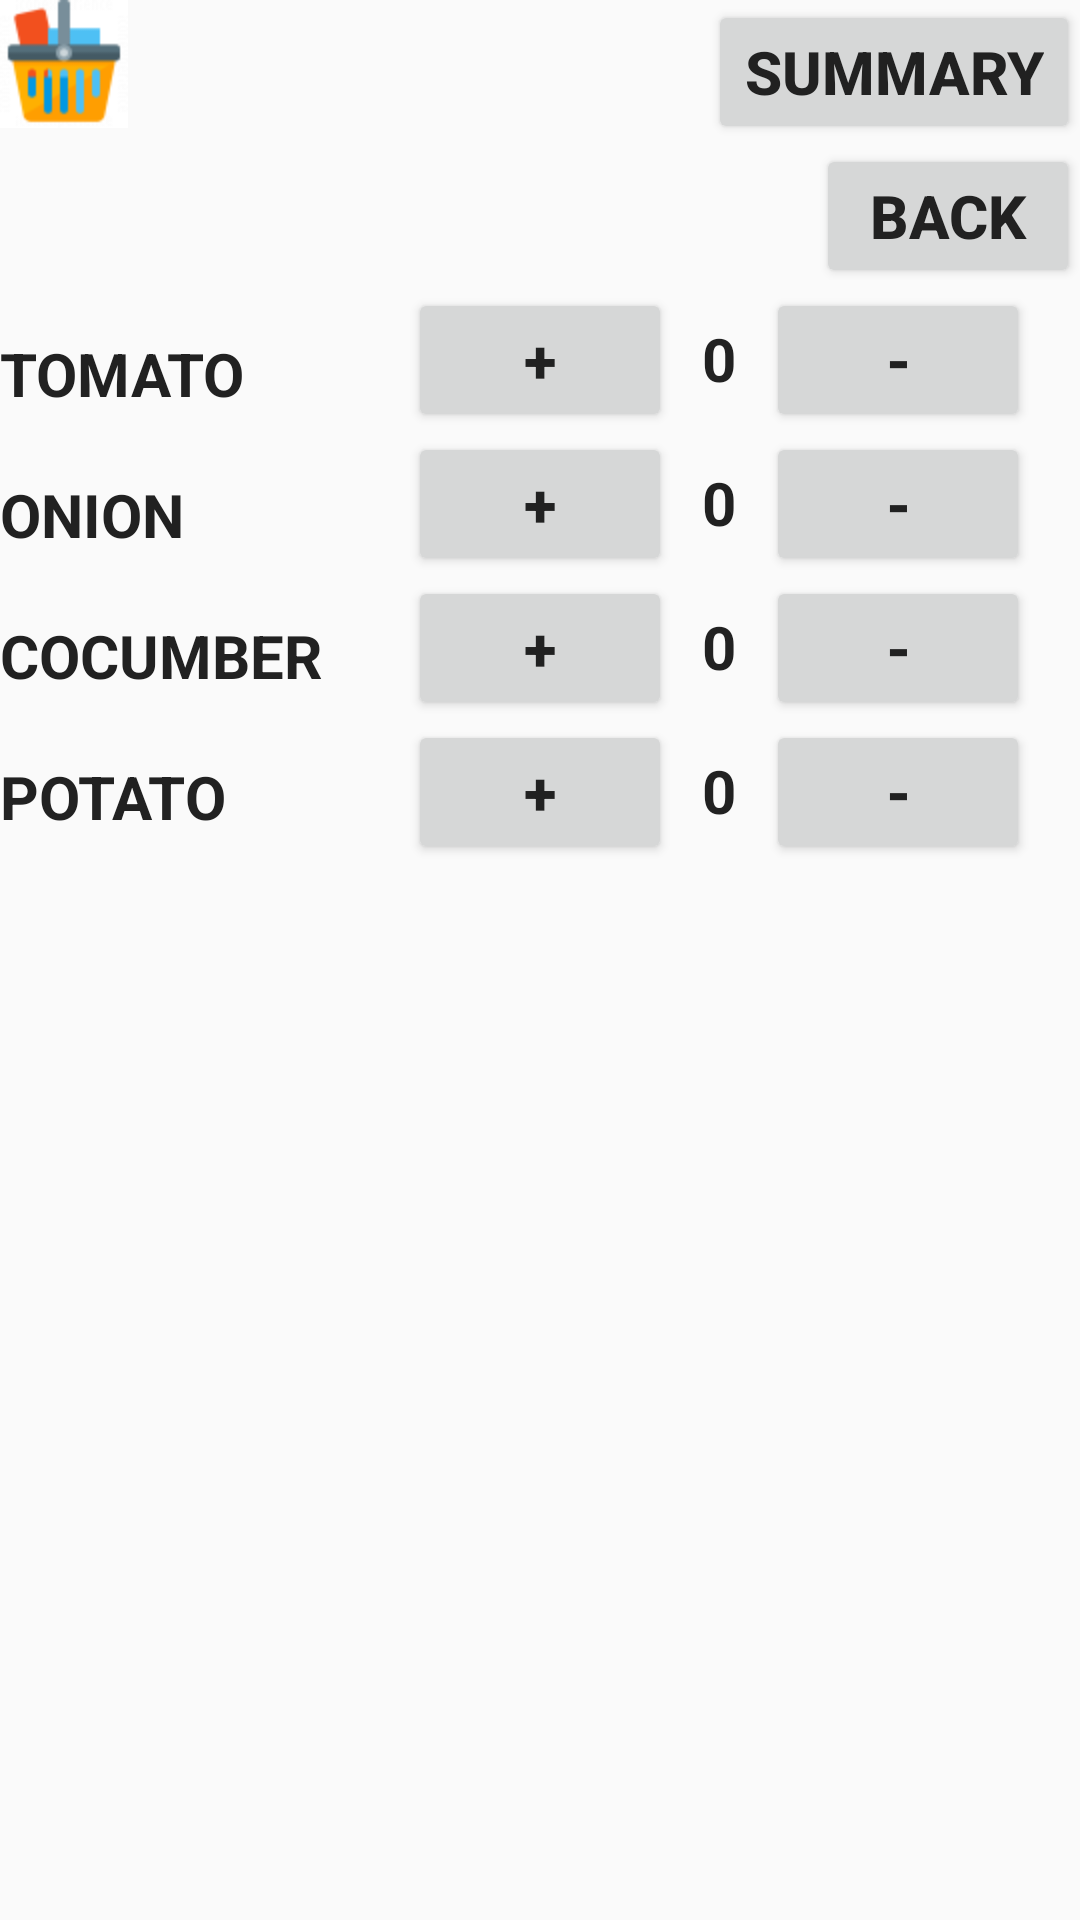

Screen size 1080 × 1920. Icon name, then its center in pixels as [x,y]:
basket: [64,61]
